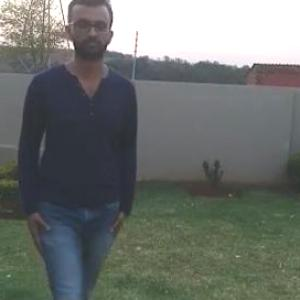follow: (7, 0, 137, 299)
